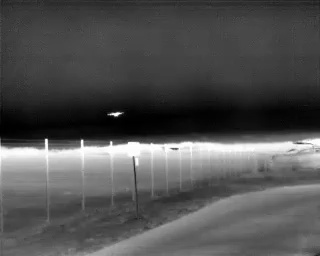AIRPLANE: (105, 109, 125, 120)
